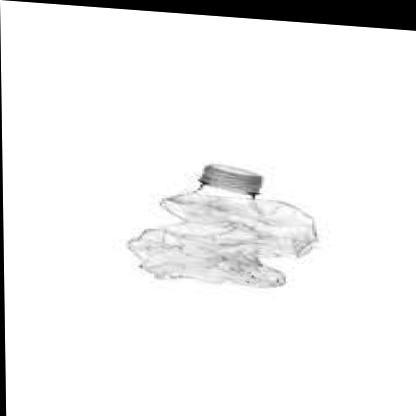trash: (128, 164, 317, 287)
